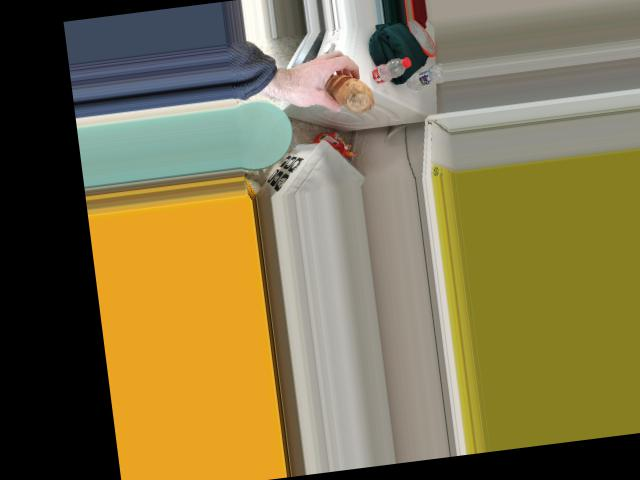sweet_potato: (323, 71, 376, 115)
